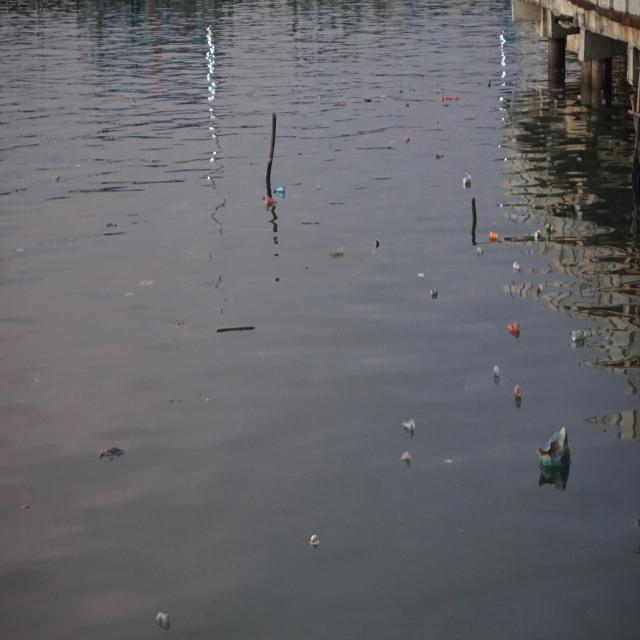Botol Plastik: (266, 195, 279, 208), (274, 184, 288, 196), (507, 324, 522, 335), (514, 383, 523, 400), (493, 364, 501, 380)
Bungkus Minuman: (151, 607, 173, 633), (306, 528, 323, 554), (403, 417, 417, 433), (489, 231, 500, 243), (514, 262, 523, 275)
Kantong Plastik: (99, 446, 127, 469)
